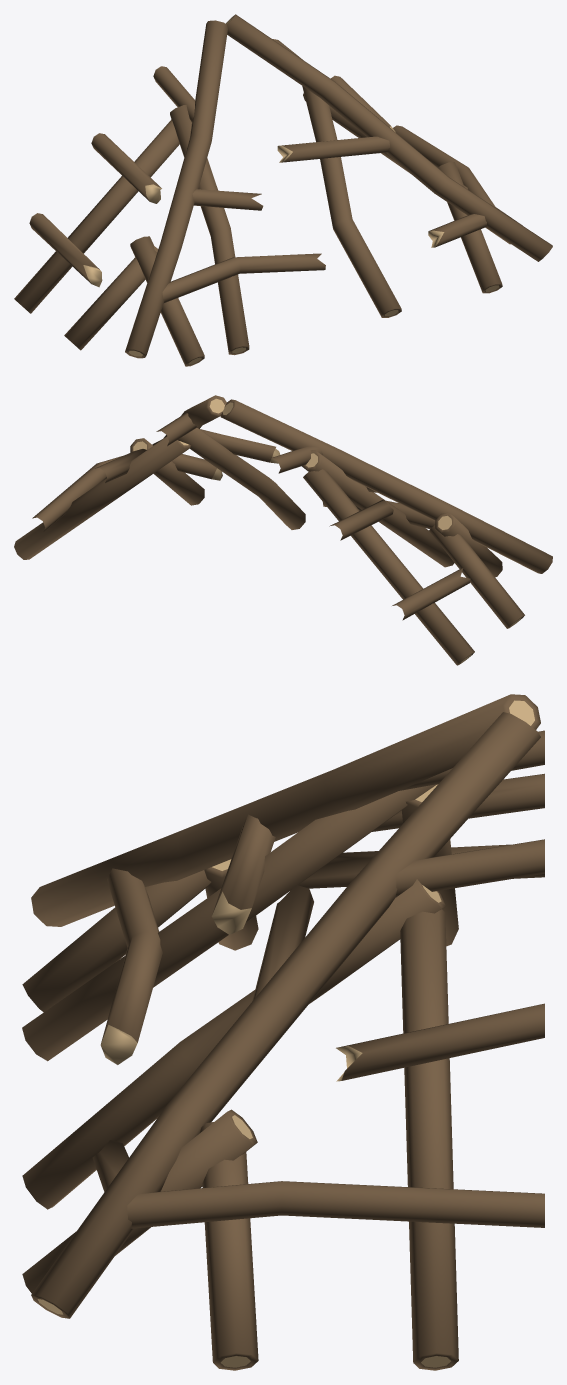
File: rpgpp_av_roof_support_01_6x3x3_end_02a.gltf
3 renders of one model, top to bottom at view 1: azimuth 30°, elevation 25°; view 2: azimuth 150°, elevation 25°; view 3: azimuth 270°, elevation 25°, orthographic. The views are drawn at different scales.
Parts seen in each view (by area): view 1: rpgpp_av_roof_support_01_6x3x3_end_02a; view 2: rpgpp_av_roof_support_01_6x3x3_end_02a; view 3: rpgpp_av_roof_support_01_6x3x3_end_02a.
Boxes of the visible parts, x1,y1,x2,y2 form: rpgpp_av_roof_support_01_6x3x3_end_02a: (14, 14, 552, 366); rpgpp_av_roof_support_01_6x3x3_end_02a: (14, 395, 552, 665); rpgpp_av_roof_support_01_6x3x3_end_02a: (22, 694, 544, 1370).
Bounding box in the file's own units: 0.0738 × 0.0352 × 0.0366.
1 material, 1 textured.
